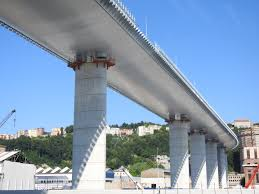bridge: (1, 1, 241, 155)
